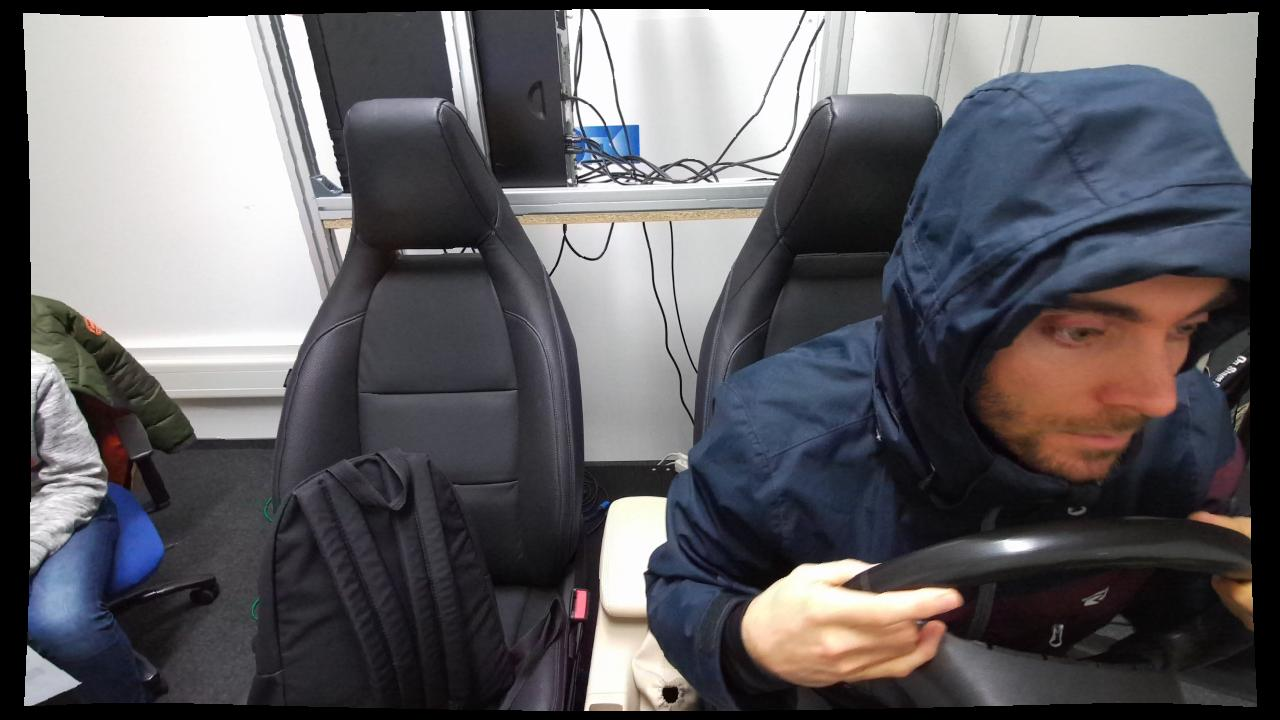Distracted: (644, 66, 1241, 713)
